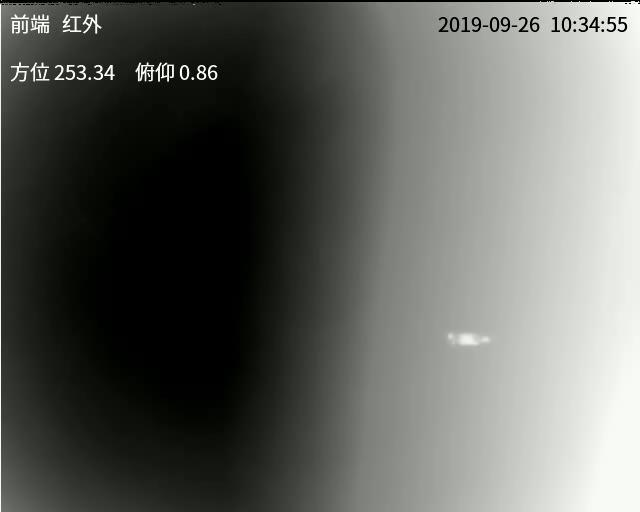uav: (443, 326, 495, 351)
